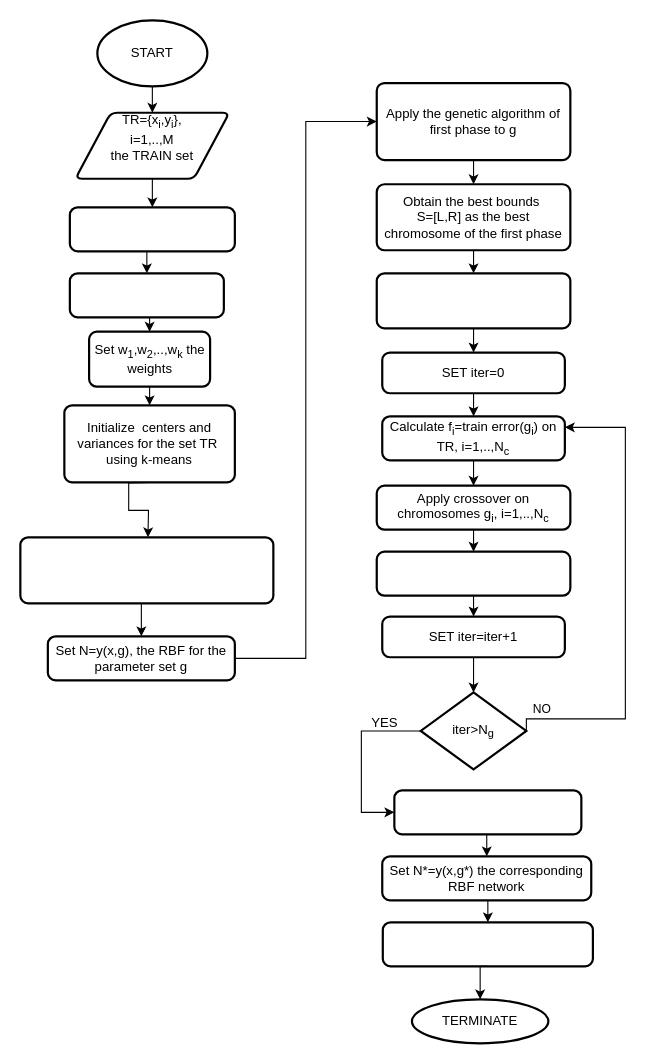
Some shapes in this 653 by 1063 pixel diagram are drawn without their labels. Here are the shapes that lost their labels. From the top down, the centre of each, then its label:
point (151, 229): Set c 1 ,c 2 ,..,c k the centers
point (146, 295): Set σ 1 ,σ 2 ,..,σ k the variances
point (473, 300): Construct randomly g i , i=1,.., N c chromosomes in S
point (146, 570): Set g={c 1 ,σ 1 ,c 2 ,σ 2 ,..,c k ,σ κ ,w 1 ,w 2 ,..,w k }
point (473, 573): Apply mutation on chromosomes g i , i=1,..,N c
point (487, 812): Obtain g* chromosome with the lowest fitness value f*
point (487, 944): Apply N* on test set and report the test error
